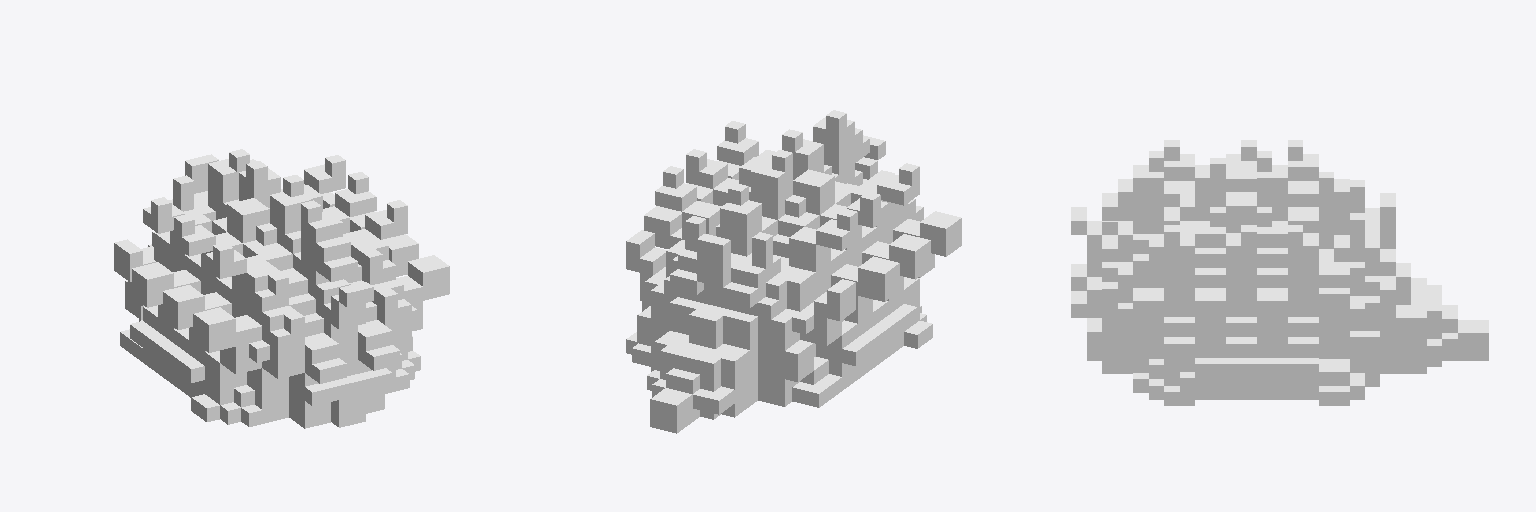
Rendered from arici.obj.
3 renders of one model, left to right at view 1: azimuth 30°, elevation 25°; view 2: azimuth 150°, elevation 25°; view 3: azimuth 270°, elevation 25°, orthographic.
Parts seen in each view (by area): view 1: object 1; view 2: object 1; view 3: object 1.
Part boxes in pixels (left/top/right/bottom): object 1: left=114, top=149, right=449, bottom=428; object 1: left=626, top=110, right=961, bottom=433; object 1: left=1071, top=140, right=1488, bottom=405.
Size of the model in its own units: 1.8 by 1.4 by 2.7.